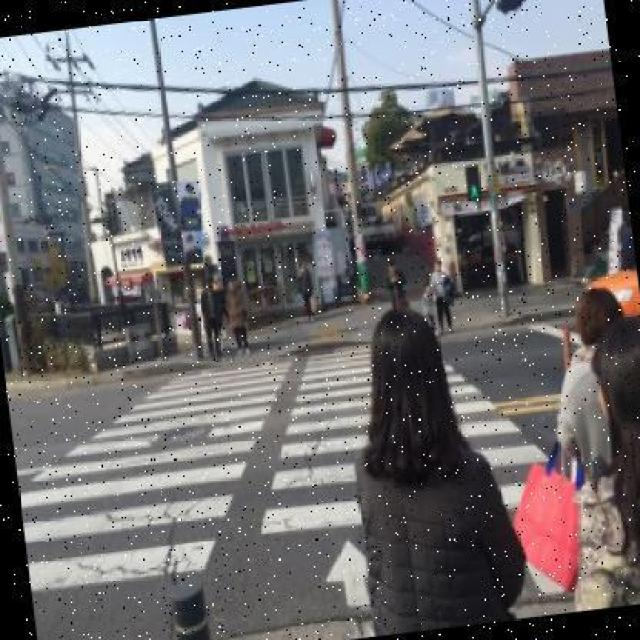Person: (337, 298, 529, 634), (551, 314, 638, 608), (218, 274, 255, 357), (194, 274, 228, 363), (424, 255, 459, 334), (294, 258, 320, 324), (384, 258, 410, 314)
